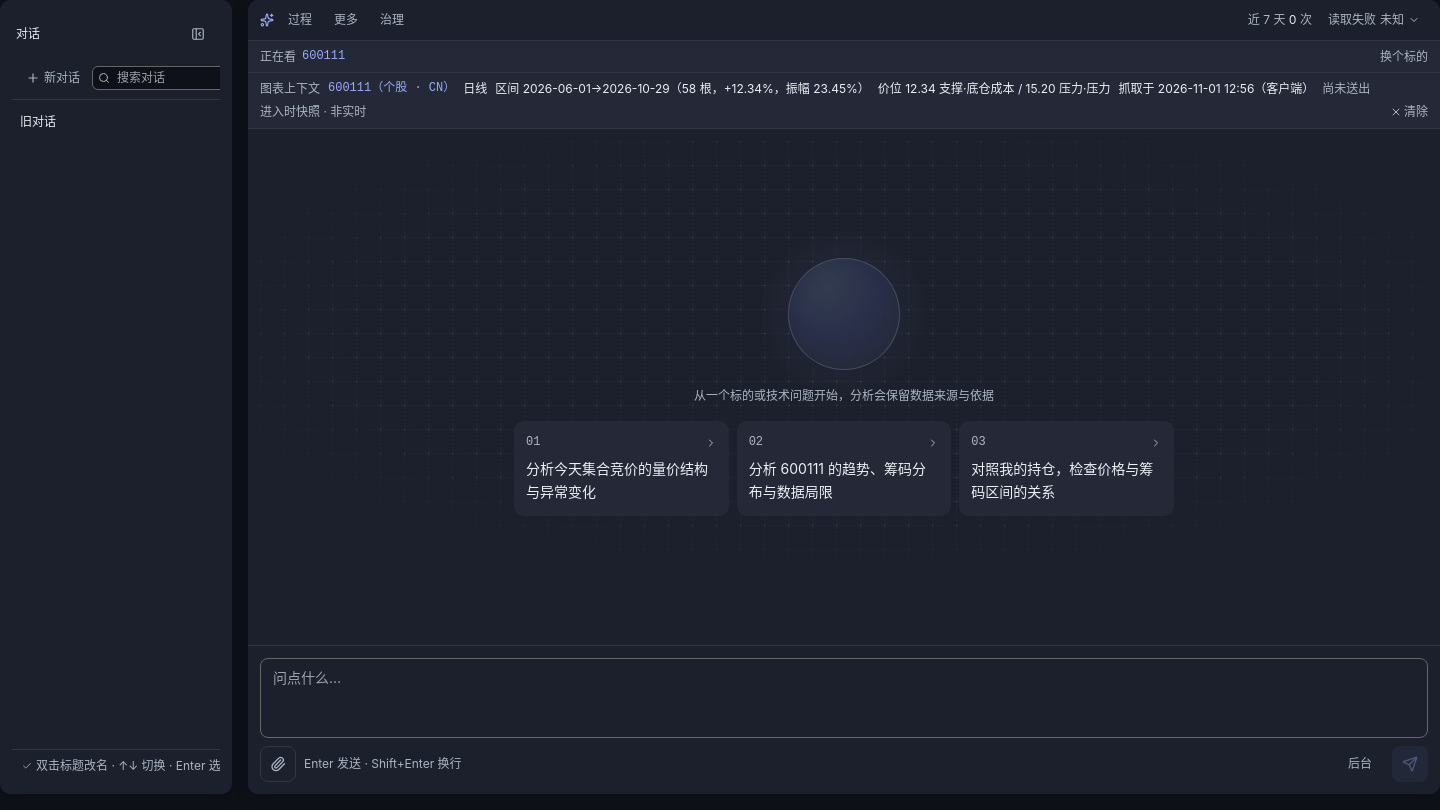
时效：过期不发送、过期要说明 › 在参谋页停留超过 TTL 再发问 → 旧区间不送出去，并提示过期
Expected: the element with test id "copilot-chart-context" is shown, x1=248 y1=73 x2=1439 y2=129
Expected: the button named "发送" is shown, x1=1392 y1=746 x2=1428 y2=782
Step 1. Type "这个区间怎么看" into the text box with placeholder "问点什么…" → x=844, y=698, box x1=260 y1=658 x2=1428 y2=738
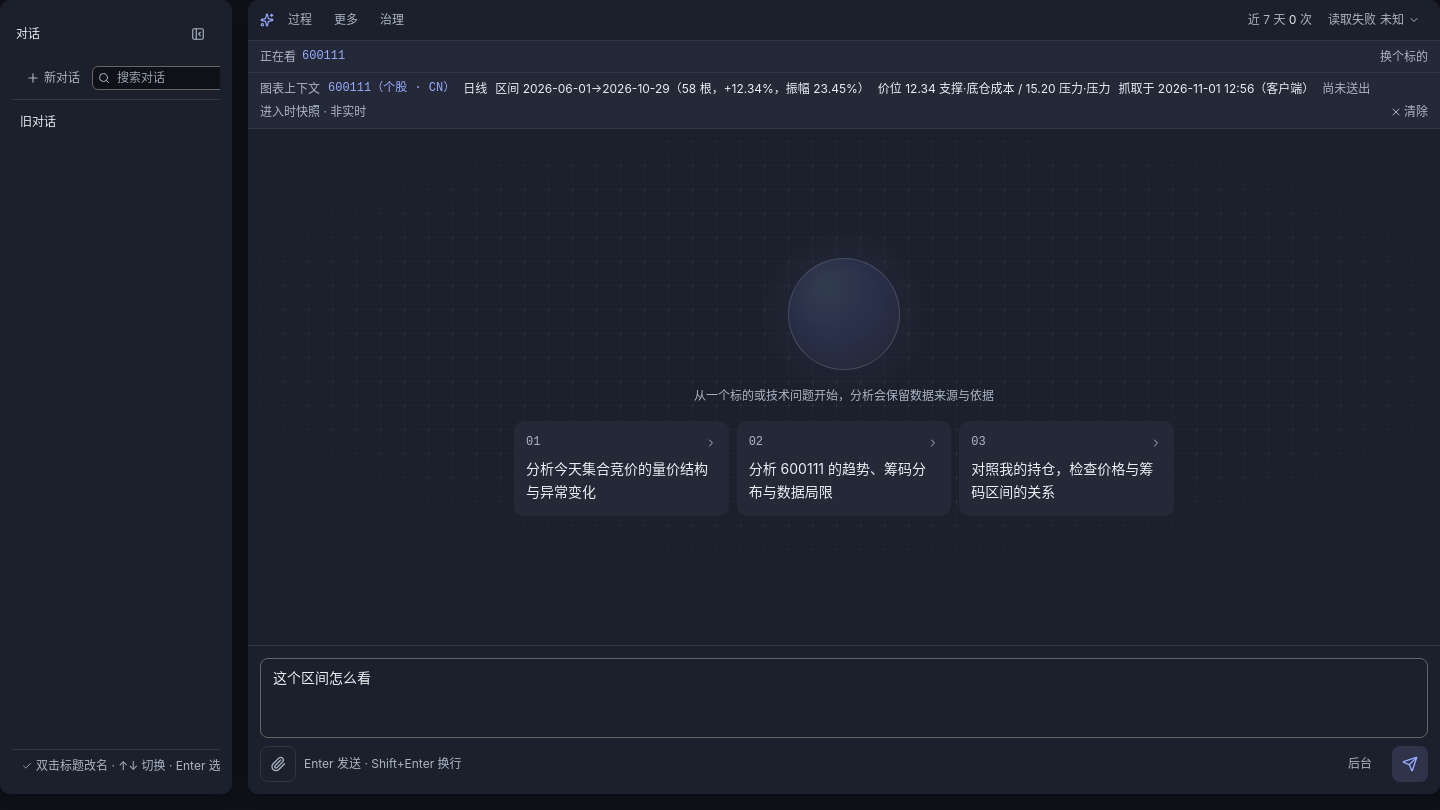
Step 2. Click the button named "发送" → x=1410, y=764, box x1=1392 y1=746 x2=1428 y2=782
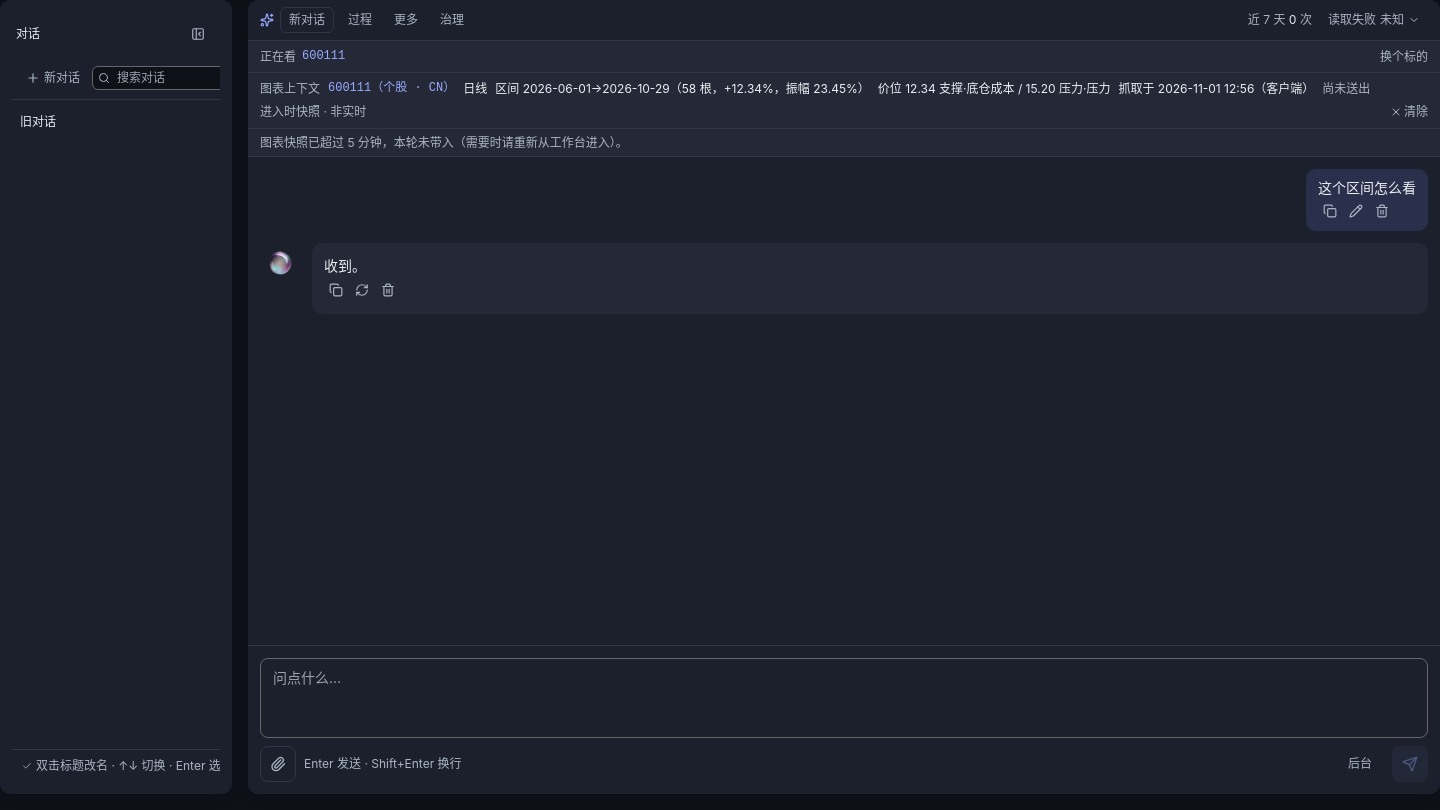
Now the text with test id "copilot-chart-context-notice" shows "超过 5 分钟", box x1=260 y1=135 x2=628 y2=150
